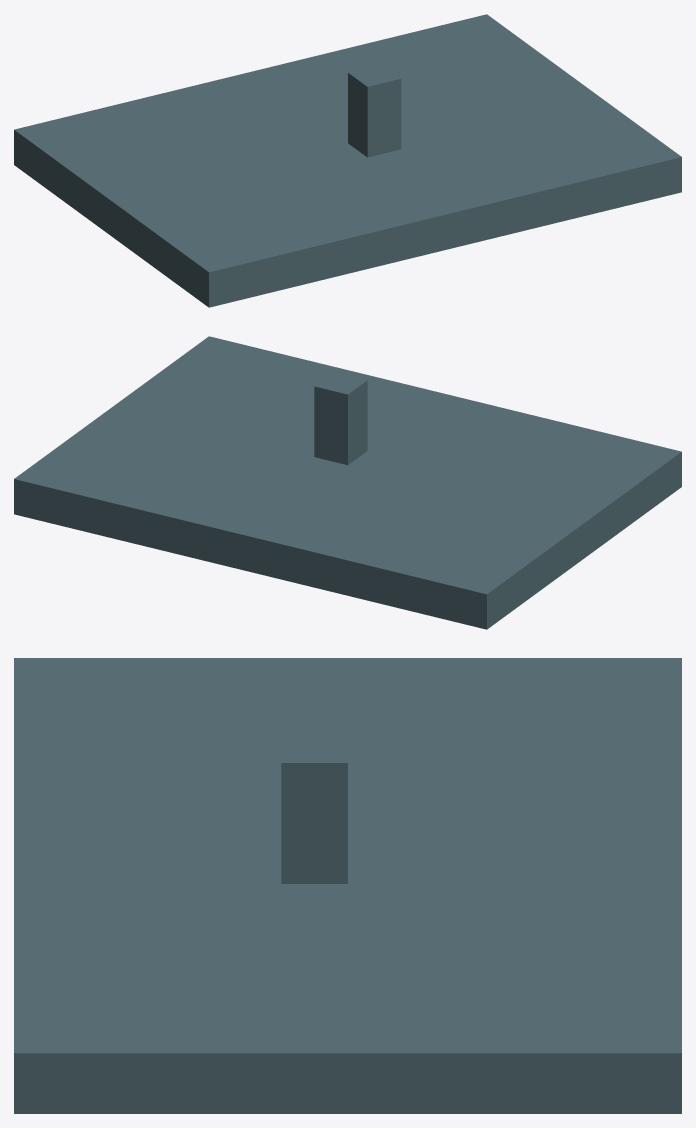
Rendered from Wall.glb.
3 renders of one model, top to bottom at view 1: azimuth 30°, elevation 25°; view 2: azimuth 150°, elevation 25°; view 3: azimuth 270°, elevation 25°, orthographic. The views are drawn at different scales.
Visible parts, largest first — view 1: fe92a6cc-8ef9-4053-9456-5ab9adf44c41:chunk:0,0,0; view 2: fe92a6cc-8ef9-4053-9456-5ab9adf44c41:chunk:0,0,0; view 3: fe92a6cc-8ef9-4053-9456-5ab9adf44c41:chunk:0,0,0.
Boxes of the visible parts, bbox=[...] form: fe92a6cc-8ef9-4053-9456-5ab9adf44c41:chunk:0,0,0: bbox=[14, 14, 681, 307]; fe92a6cc-8ef9-4053-9456-5ab9adf44c41:chunk:0,0,0: bbox=[14, 336, 681, 629]; fe92a6cc-8ef9-4053-9456-5ab9adf44c41:chunk:0,0,0: bbox=[14, 658, 681, 1113].
Size of the model in its own units: 3.5 by 0.75 by 2.5.
